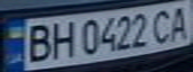0: (78, 16, 103, 55)
2: (130, 9, 154, 50), (115, 11, 136, 52)
4: (100, 14, 121, 53)
A: (166, 2, 193, 42)
B: (21, 20, 54, 63)
C: (148, 6, 175, 44)
H: (48, 18, 78, 60)
